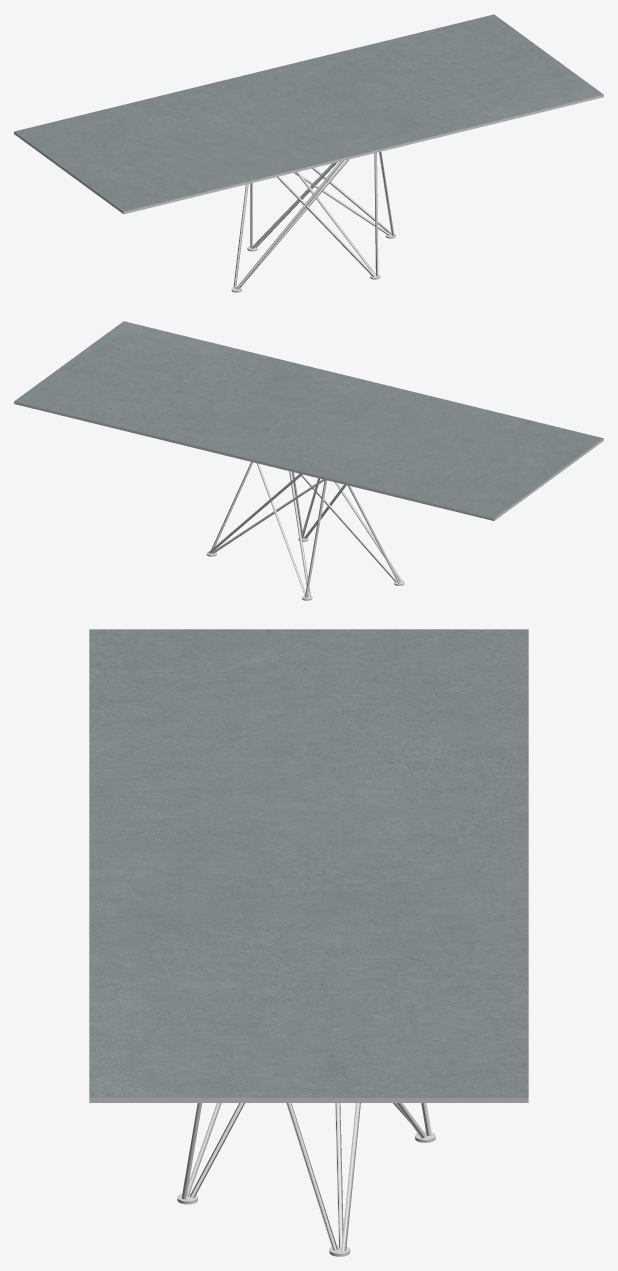
The model's file is Stella18.glb.
3 views of the same model, one above another, from view 1: azimuth 30°, elevation 25°; view 2: azimuth 150°, elevation 25°; view 3: azimuth 270°, elevation 25° (orthographic). The views are drawn at different scales.
Visible parts, largest first — view 1: Cube.001, Plane.018; view 2: Cube.001, Plane.018; view 3: Cube.001, Plane.018.
Boxes of the visible parts, x1,y1,x2,y2 form: Cube.001: [14, 14, 603, 214]; Plane.018: [233, 151, 394, 289]; Cube.001: [14, 321, 603, 520]; Plane.018: [208, 462, 402, 598]; Cube.001: [89, 629, 528, 1102]; Plane.018: [181, 1103, 431, 1251].
Bounding box in the file's own units: 2.4 × 0.7201 × 0.95.
4 materials, 3 textured.
